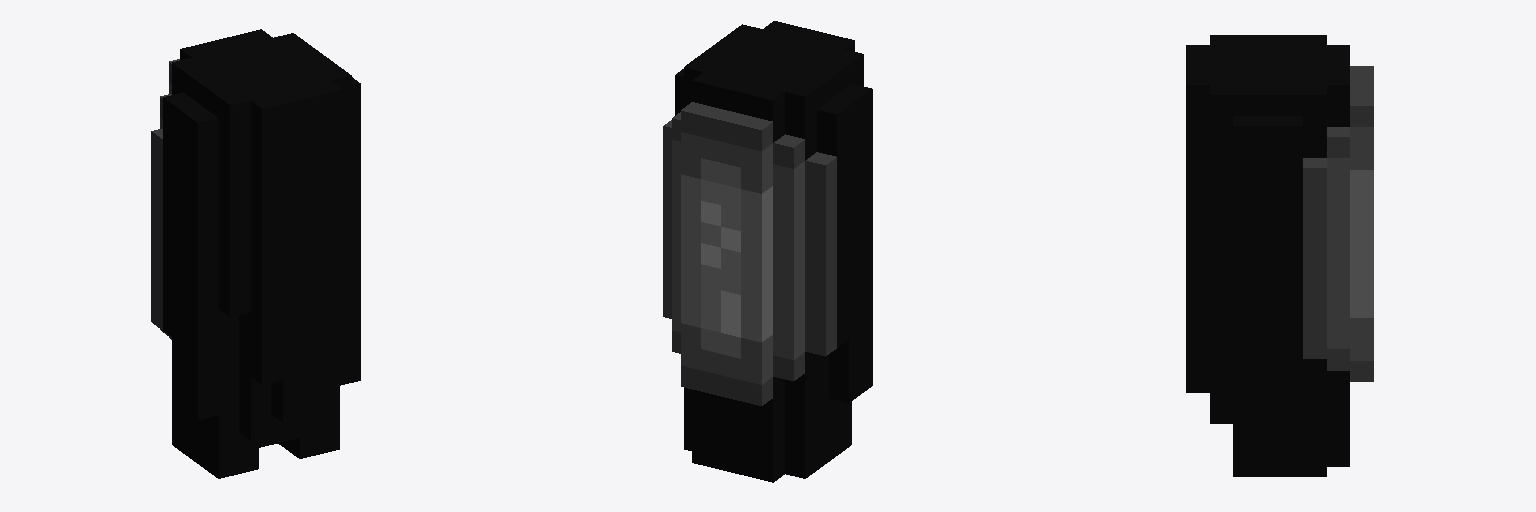
The picture shows the model from 3 angles: view 1: azimuth 30°, elevation 25°; view 2: azimuth 150°, elevation 25°; view 3: azimuth 270°, elevation 25°; orthographic projection.
Parts seen in each view (by area): view 1: object 1; view 2: object 1; view 3: object 1.
Boxes of the visible parts, x1,y1,x2,y2 form: object 1: [151, 29, 360, 478]; object 1: [663, 21, 872, 482]; object 1: [1186, 35, 1373, 476].
Bounding box in the file's own units: 0.8 × 1.8 × 0.8.
Materials: 1 (1 with a texture image).